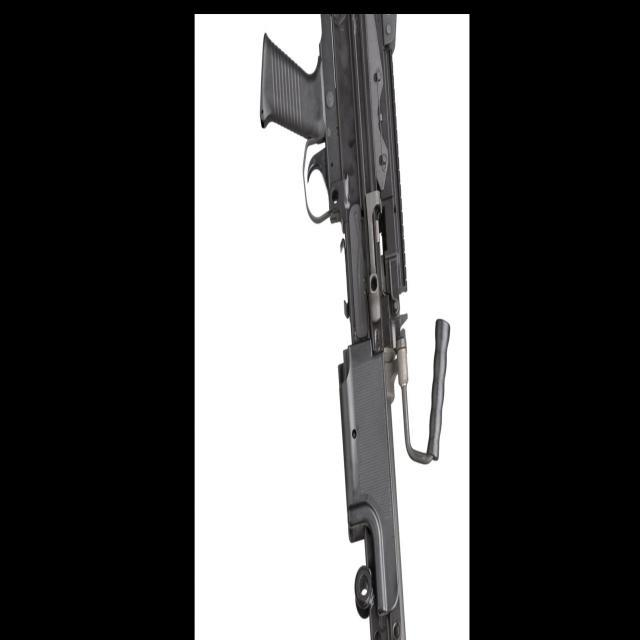weapon: (260, 12, 450, 640)
